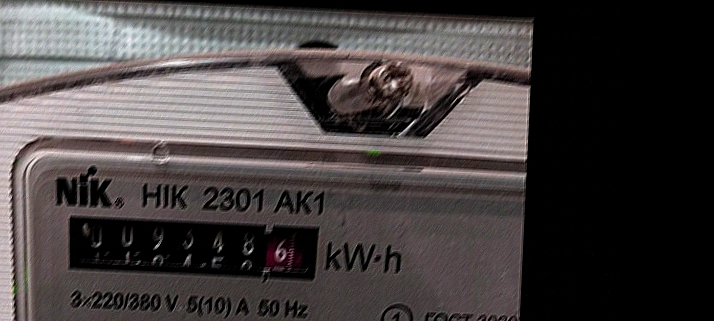0: (88, 220, 102, 247), (118, 222, 134, 245)
3: (178, 223, 194, 250)
4: (208, 225, 224, 252)
6: (270, 235, 288, 262)
8: (238, 227, 255, 256)
9: (147, 223, 164, 250)
screen: (55, 207, 327, 288)
